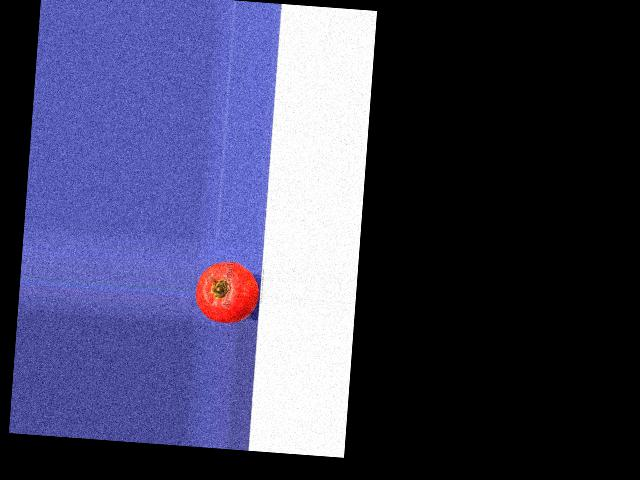tomato: (194, 259, 260, 325)
